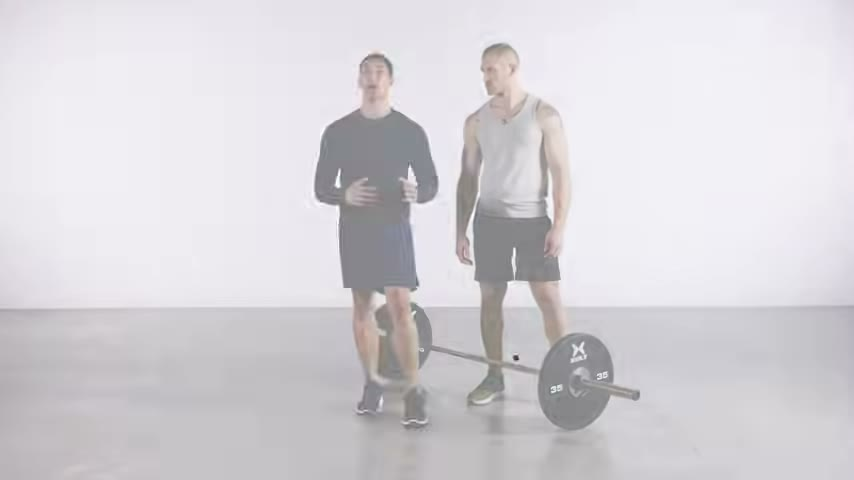barbell_plate_side: (559, 330, 642, 444), (584, 332, 642, 442)
